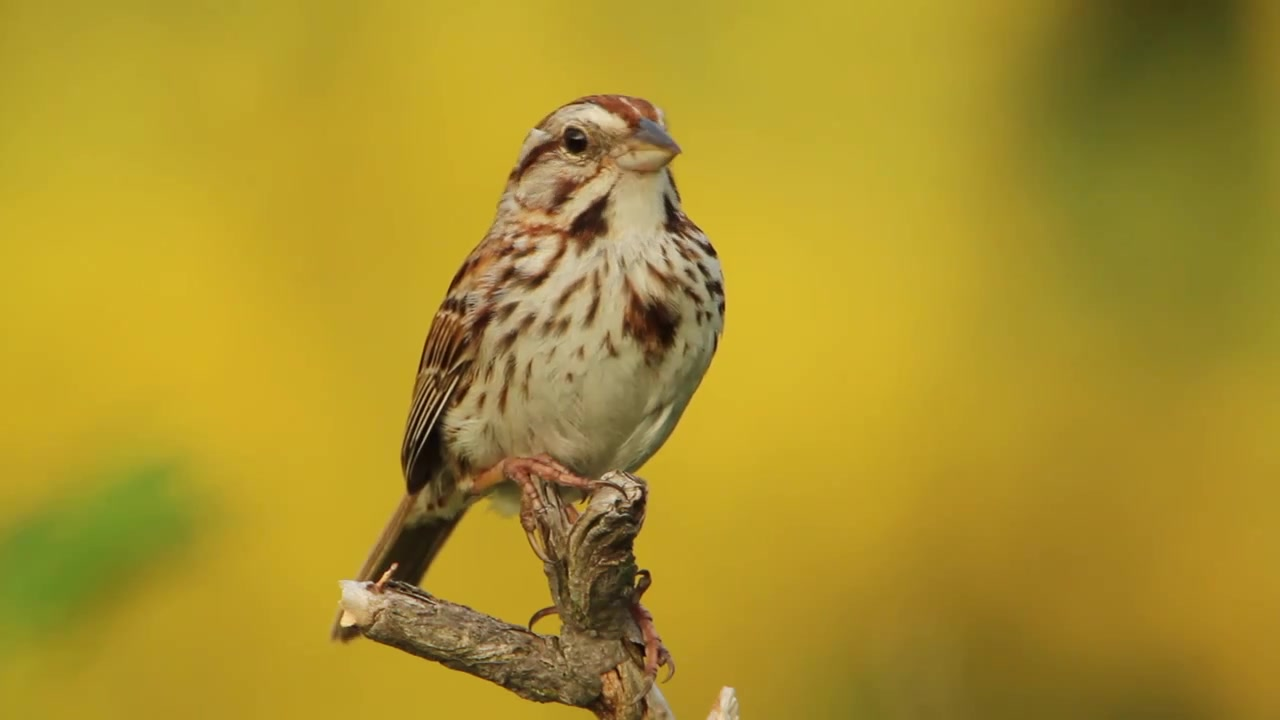bird: (328, 92, 730, 708)
